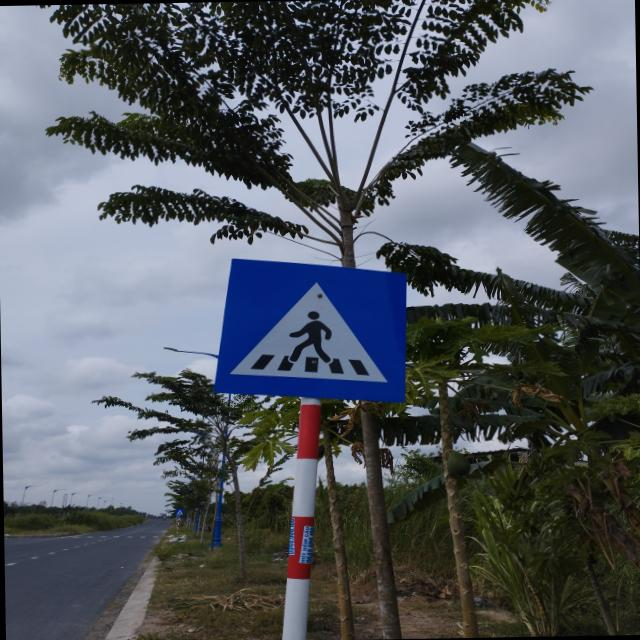Giao_Nhau_Duong_Uu_Tien: (211, 255, 411, 405)
